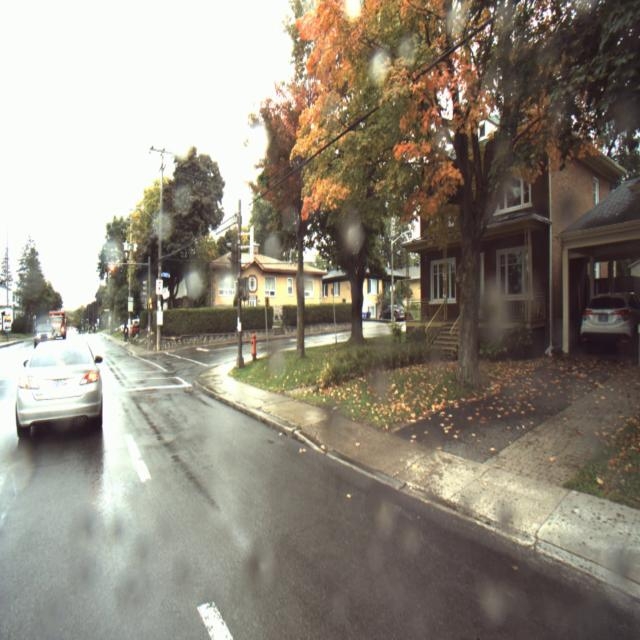car: (17, 334, 104, 436)
